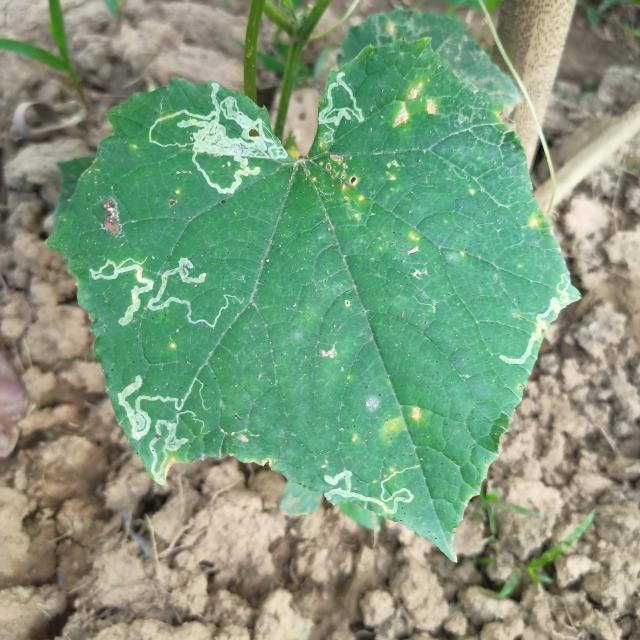disease_cucumber: (322, 151, 374, 225), (377, 401, 432, 449), (389, 82, 440, 130)
